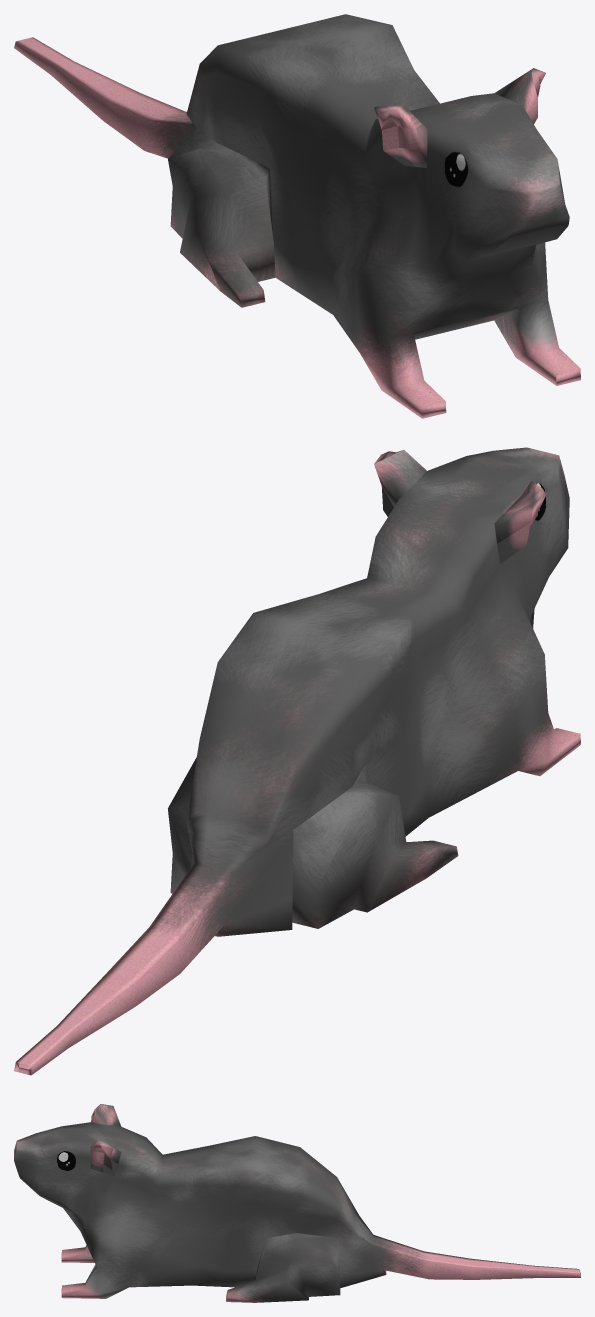
The model's file is texturedRat.fbx.
3 renders of one model, top to bottom at view 1: azimuth 30°, elevation 25°; view 2: azimuth 150°, elevation 25°; view 3: azimuth 270°, elevation 25°, orthographic. The views are drawn at different scales.
Visible parts, largest first — view 1: rat; view 2: rat; view 3: rat.
Boxes of the visible parts, x1,y1,x2,y2 form: rat: (14, 14, 580, 418); rat: (14, 447, 580, 1075); rat: (14, 1104, 580, 1302).
Bounding box in the file's own units: 4.7 × 5.76 × 18.85.
1 material, 1 textured.
